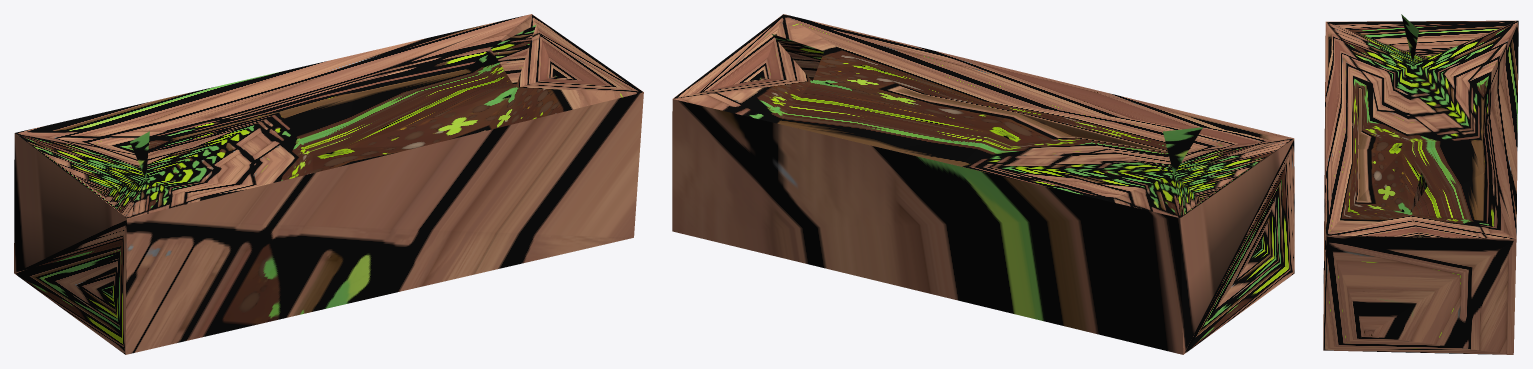
The model's file is planter_box_lod2.glb.
3 views of the same model, side by side, from view 1: azimuth 30°, elevation 25°; view 2: azimuth 150°, elevation 25°; view 3: azimuth 270°, elevation 25° (orthographic). The views are drawn at different scales.
Visible parts, largest first — view 1: geometry_0; view 2: geometry_0; view 3: geometry_0.
Part boxes in pixels (box(x1,y1,x2,y2)): geometry_0: box(14, 14, 643, 354); geometry_0: box(672, 14, 1294, 354); geometry_0: box(1323, 14, 1518, 354).
Size of the model in its own units: 1.2 by 0.389 by 0.4598.
Materials: 1 (1 with a texture image).
